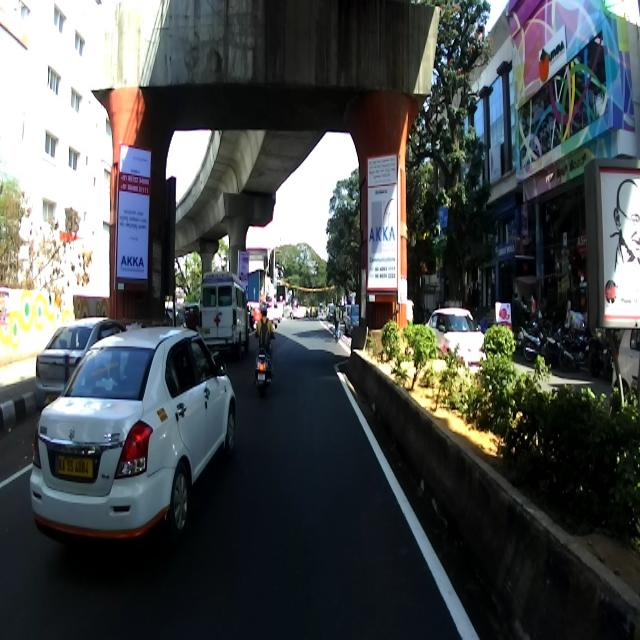car: (28, 325, 236, 553), (34, 315, 126, 412), (422, 304, 487, 371)
mini-bus: (196, 271, 252, 355)
motorcycle: (555, 315, 595, 373)
scooter: (252, 321, 278, 397)
